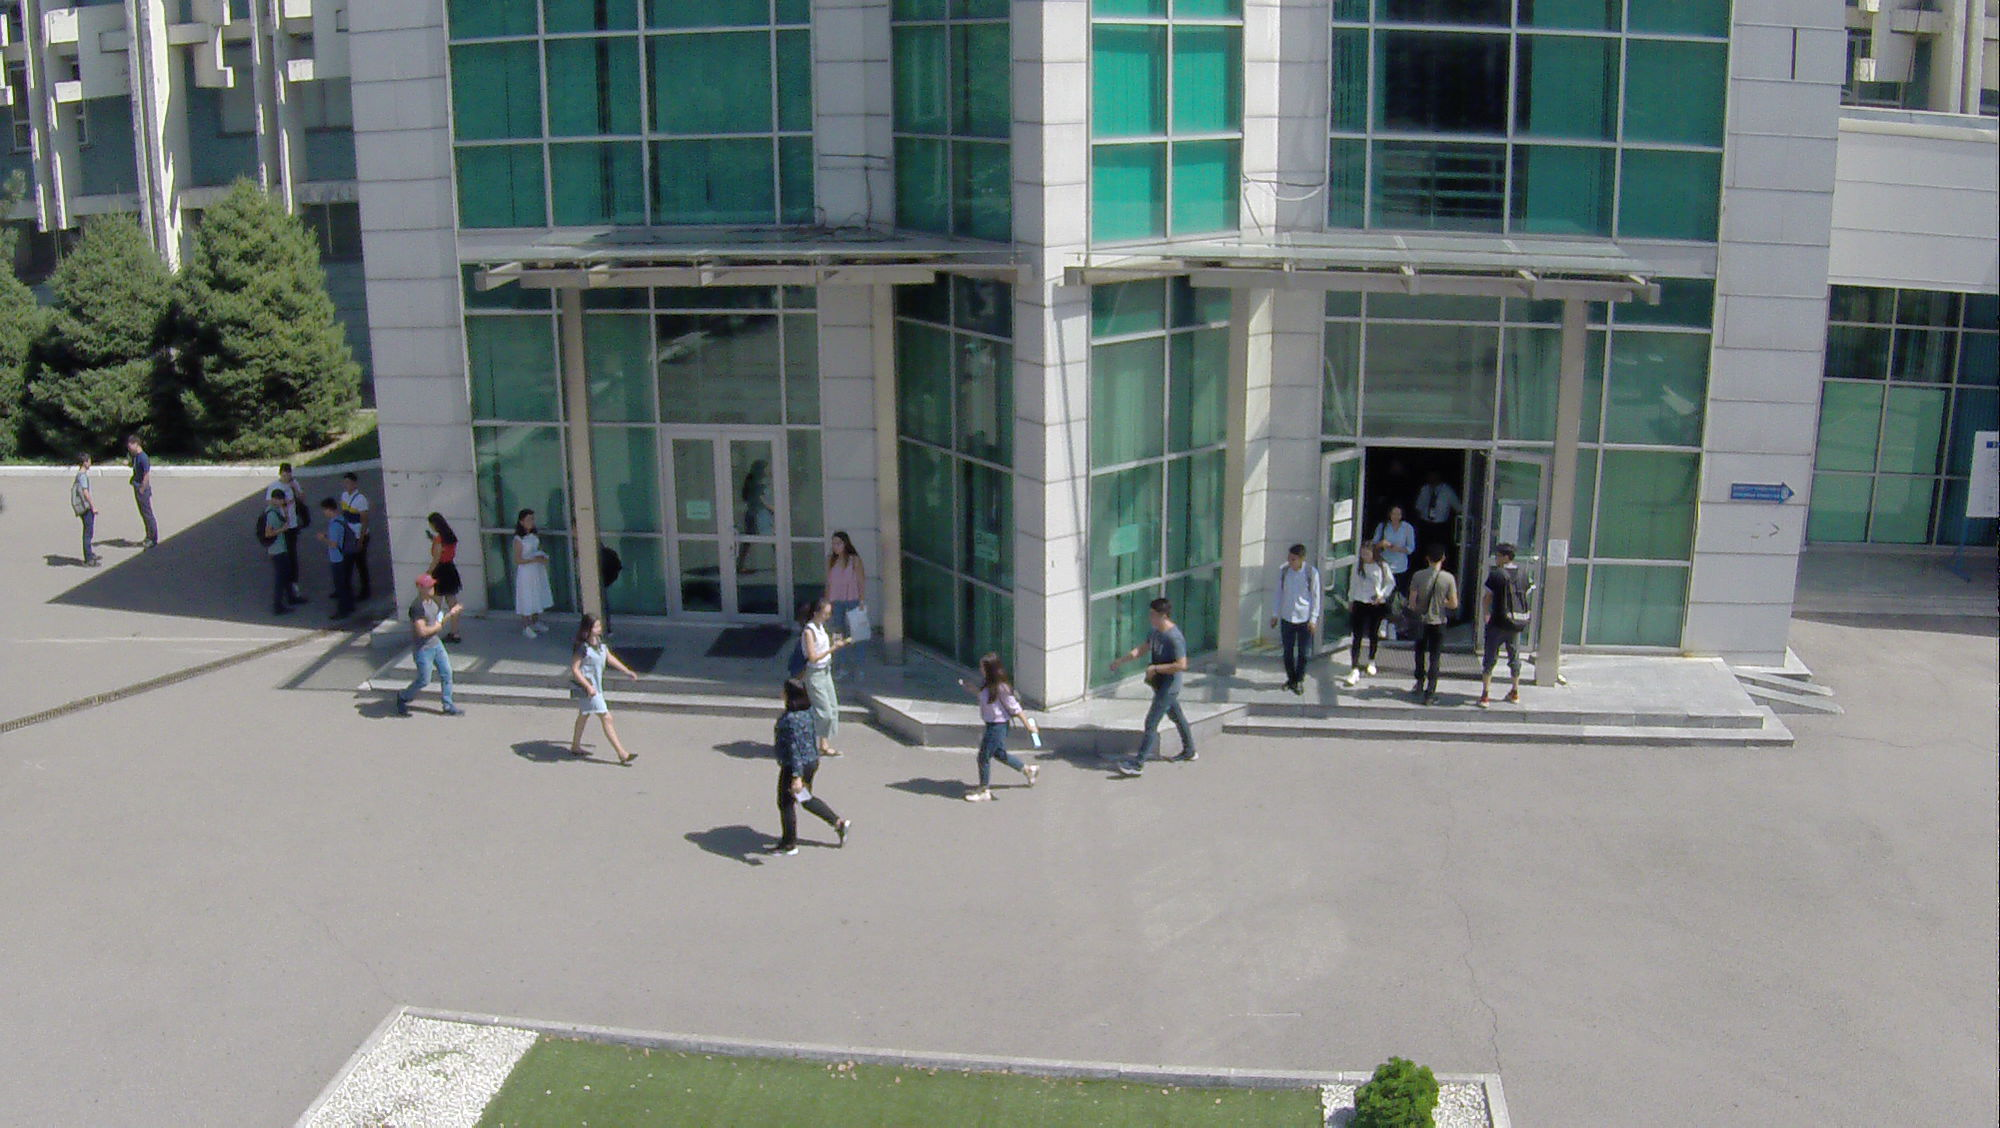person: (1118, 596, 1202, 793), (770, 679, 853, 854), (959, 647, 1044, 804), (1472, 541, 1535, 716), (564, 612, 633, 765), (1405, 544, 1465, 708), (400, 572, 463, 722), (797, 599, 854, 761), (1265, 540, 1322, 699), (825, 522, 878, 689), (1343, 543, 1396, 692), (501, 509, 556, 639), (315, 496, 361, 618), (258, 485, 297, 615), (65, 450, 104, 573), (122, 430, 161, 548), (341, 472, 374, 601), (1409, 466, 1460, 531), (418, 508, 459, 574), (1377, 503, 1414, 567), (271, 460, 299, 496)
